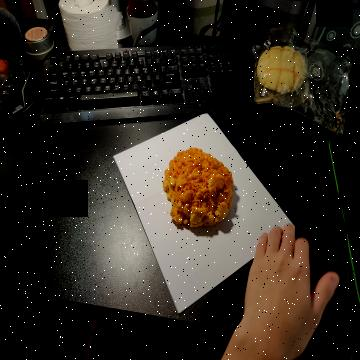soboru_bread: (161, 144, 236, 234)
